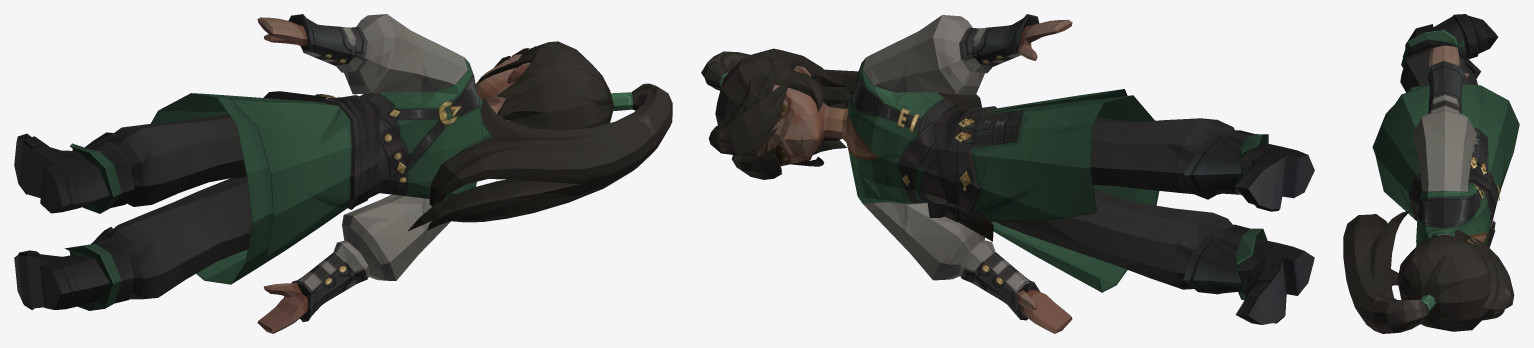
The model's file is mon_dizi_xy_001.obj.
The picture shows the model from 3 angles, left to right: view 1: azimuth 30°, elevation 25°; view 2: azimuth 150°, elevation 25°; view 3: azimuth 270°, elevation 25°; orthographic projection. The views are drawn at different scales.
Visible parts, largest first — view 1: mon_dizi_jg_001_d; view 2: mon_dizi_jg_001_d; view 3: mon_dizi_jg_001_d.
Part boxes in pixels (bbox=[...]): mon_dizi_jg_001_d: bbox=[14, 14, 672, 333]; mon_dizi_jg_001_d: bbox=[701, 14, 1314, 333]; mon_dizi_jg_001_d: bbox=[1343, 14, 1519, 333].
Bounding box in the file's own units: 2.06 × 0.9988 × 0.6377.
1 material, 1 textured.
